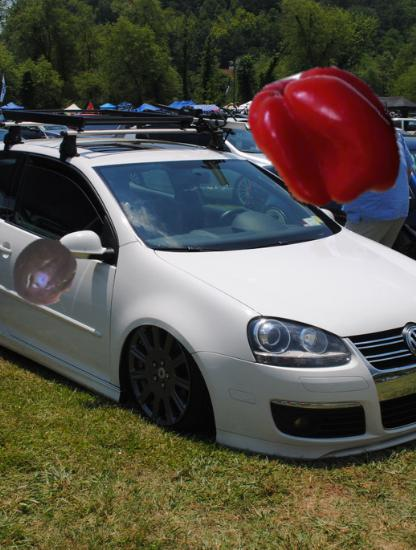Passion: (8, 237, 80, 309)
Pepper: (254, 66, 399, 211)
